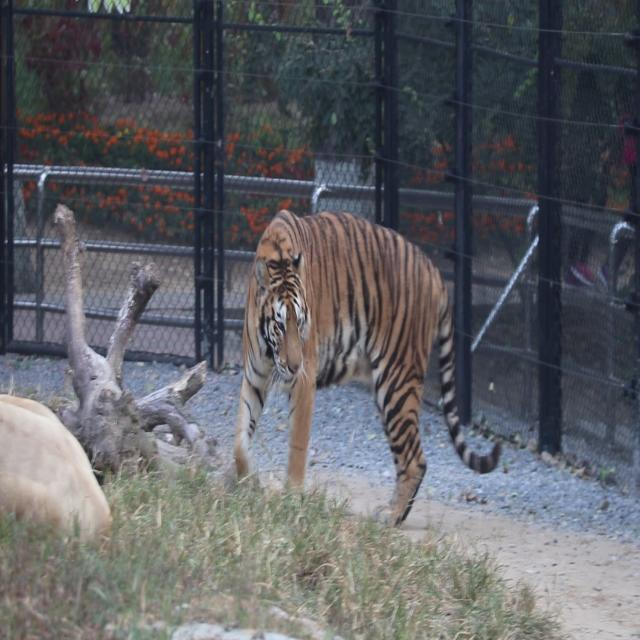Tiger: (221, 169, 511, 547)
